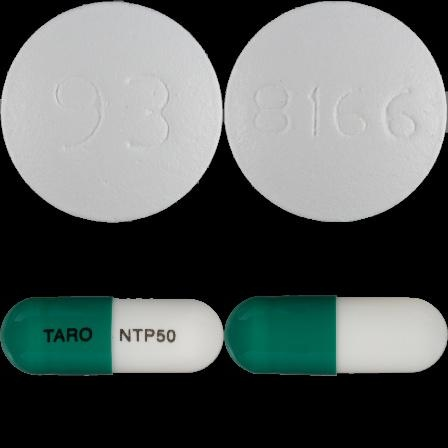61786-943: (0, 0, 224, 224)
